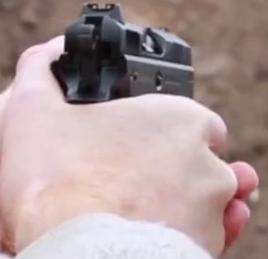gun: (1, 1, 268, 259)
